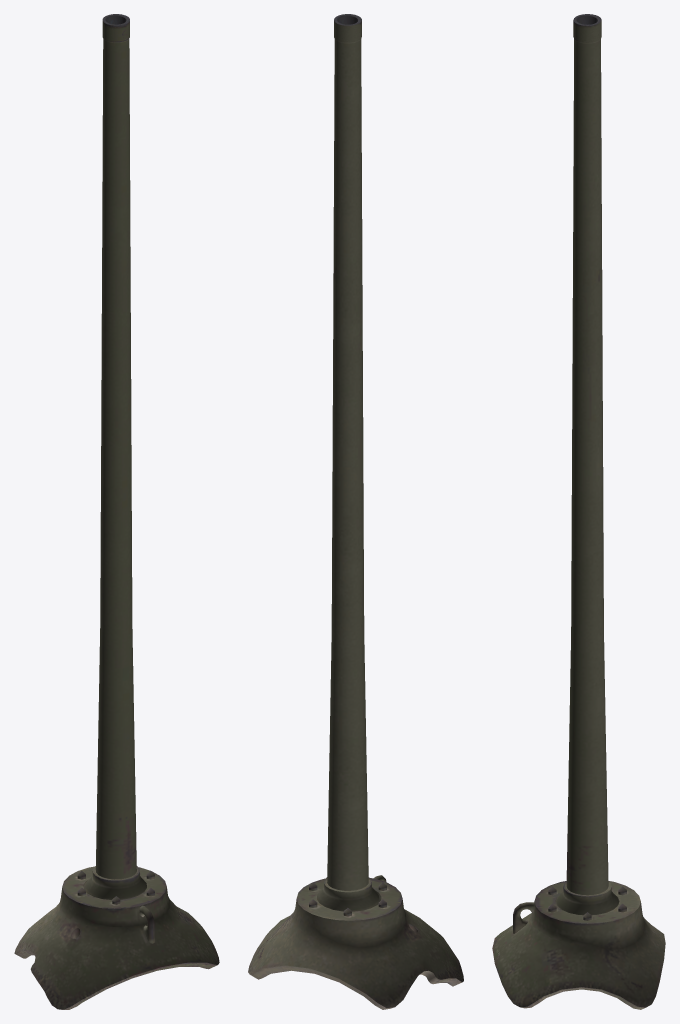
Rendered from Gun_04.glb.
3 renders of one model, left to right at view 1: azimuth 30°, elevation 25°; view 2: azimuth 150°, elevation 25°; view 3: azimuth 270°, elevation 25°, orthographic.
Parts seen in each view (by area): view 1: set_0_group_0; view 2: set_0_group_0; view 3: set_0_group_0.
Part boxes in pixels (<box>): set_0_group_0: <box>14,14,219,1009</box>; set_0_group_0: <box>248,14,463,1009</box>; set_0_group_0: <box>492,14,665,1009</box>.
Bounding box in the file's own units: 0.7906 × 4.41 × 0.7143.
Materials: 1 (1 with a texture image).
